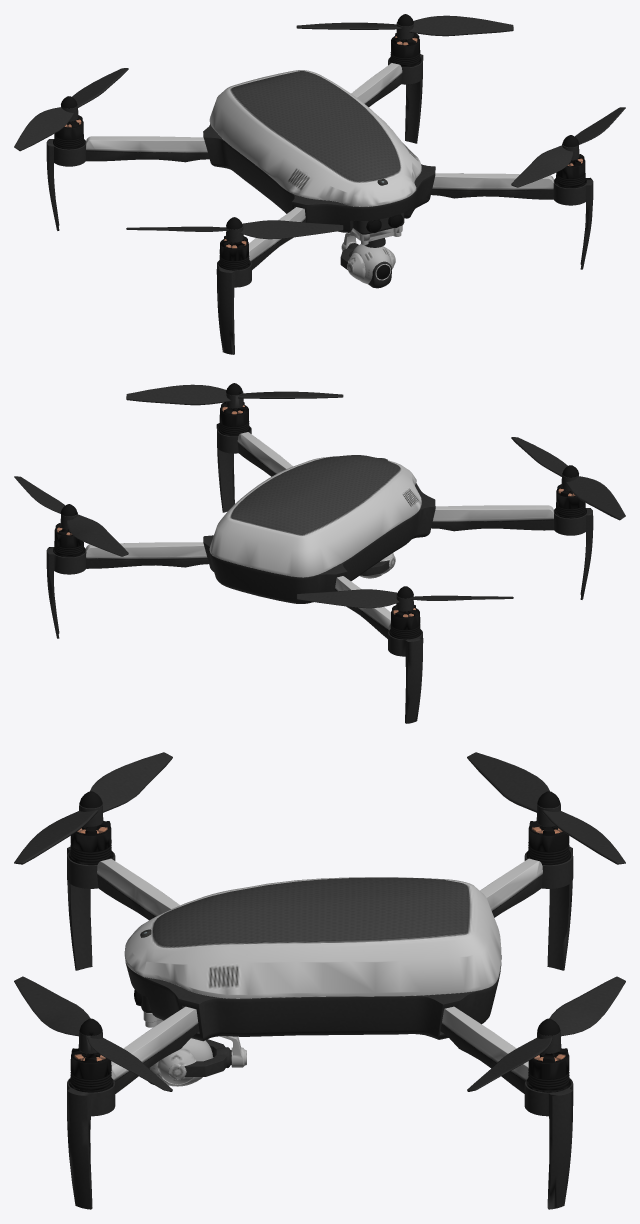
Rendered from drone_lite.glb.
The picture shows the model from 3 angles, top to bottom: view 1: azimuth 30°, elevation 25°; view 2: azimuth 150°, elevation 25°; view 3: azimuth 270°, elevation 25°; orthographic projection. The views are drawn at different scales.
Visible parts, largest first — view 1: Object_96; view 2: Object_96; view 3: Object_96.
Part boxes in pixels (bbox=[...]): Object_96: bbox=[14, 14, 625, 354]; Object_96: bbox=[14, 383, 625, 723]; Object_96: bbox=[14, 752, 625, 1209].
Size of the model in its own units: 2.81 by 0.7358 by 2.15.
Materials: 1 (1 with a texture image).
